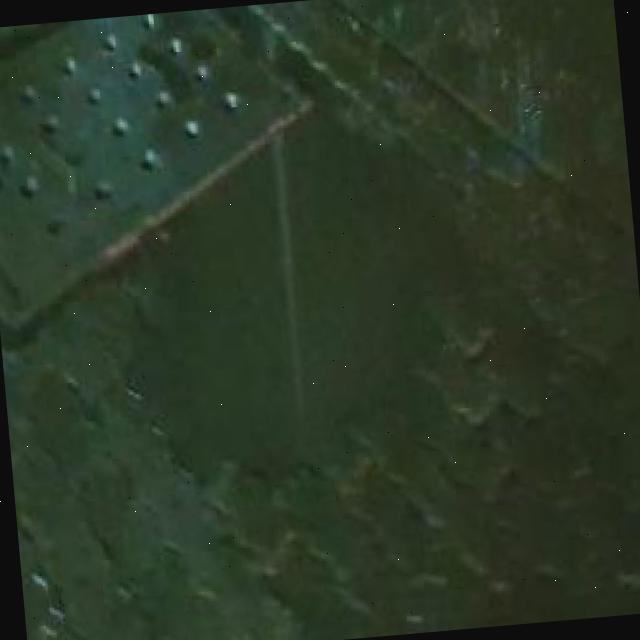stagnation: (92, 118, 488, 550)
